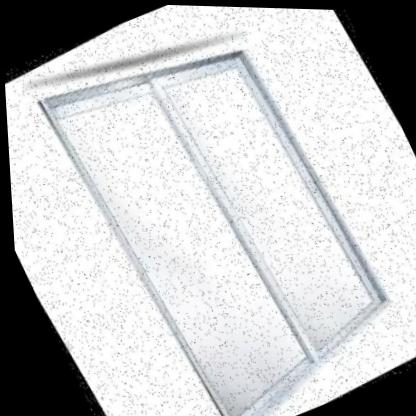Window: (4, 0, 416, 416)
